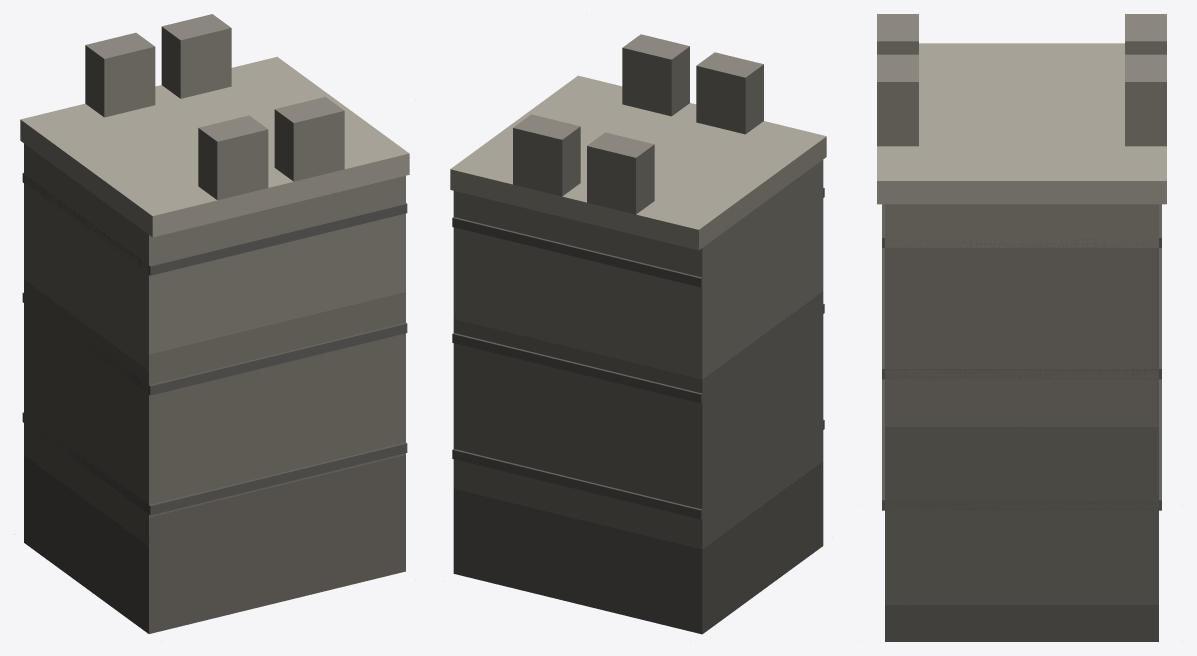
File: perimeter_wall_stone_straight.glb
The picture shows the model from 3 angles, left to right: view 1: azimuth 30°, elevation 25°; view 2: azimuth 150°, elevation 25°; view 3: azimuth 270°, elevation 25°; orthographic projection. The views are drawn at different scales.
Size of the model in its own units: 2.02 by 3.6 by 2.
Materials: 1 (1 with a texture image).
